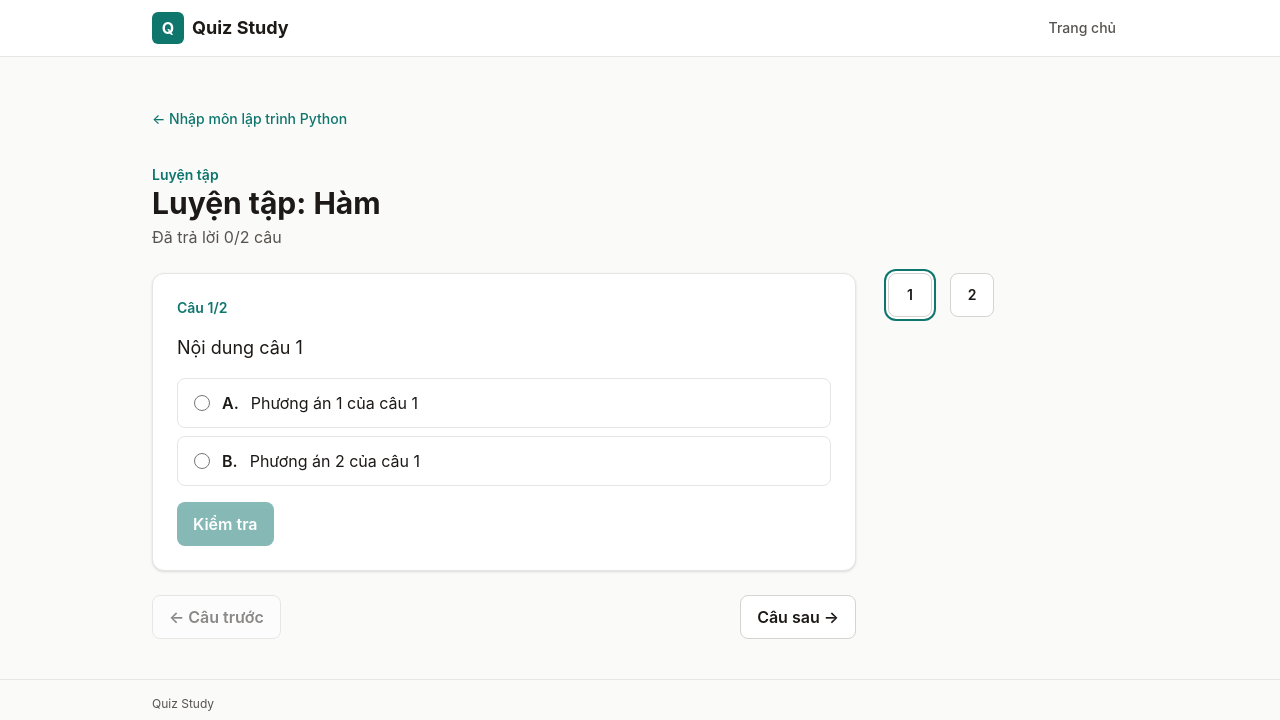
Test case: AttemptPage – luyện tập › labels a question written in addition to the source documents (D-053)
Expected: the heading "Câu 1/2" is shown, left=177, top=298, right=227, bottom=318
Expected: the text "Câu tự soạn" is not shown
Click the button "Câu sau →": (798, 617) left=740, top=595, right=856, bottom=639
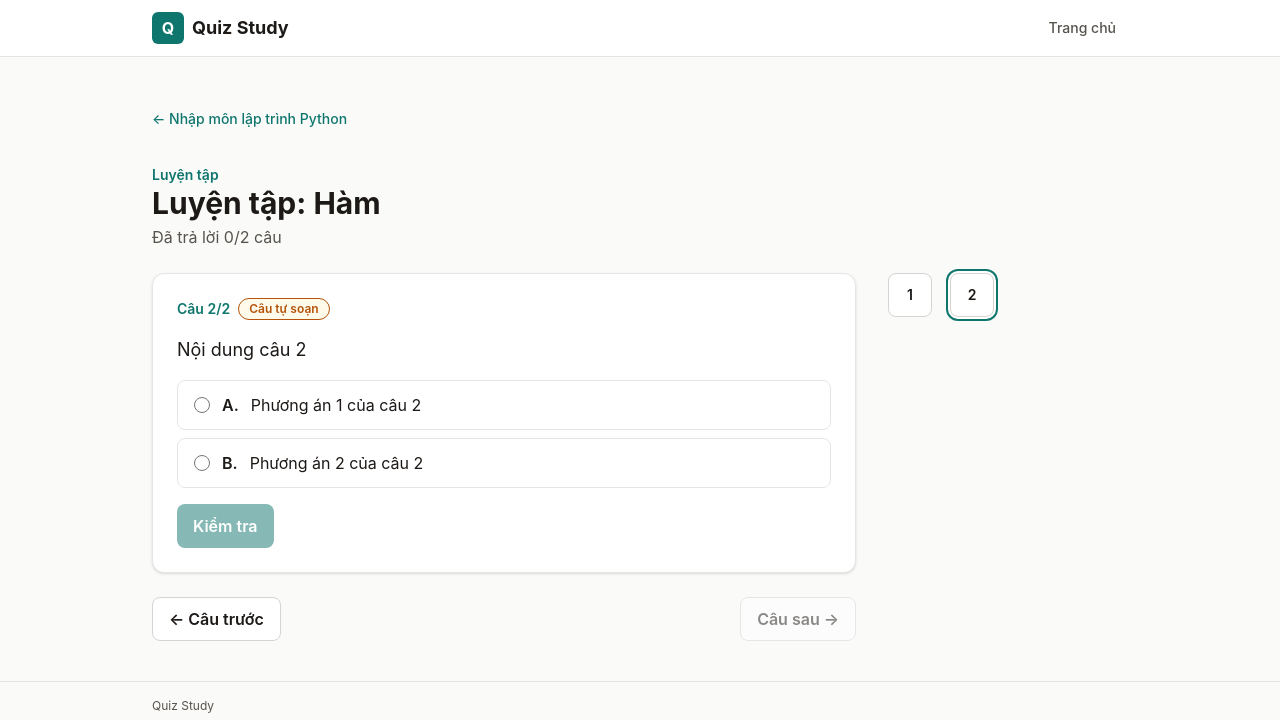
Now the heading "Câu 2/2" is shown, box left=177, top=299, right=230, bottom=319
Now the text "Câu tự soạn" is shown, box left=238, top=298, right=330, bottom=320
